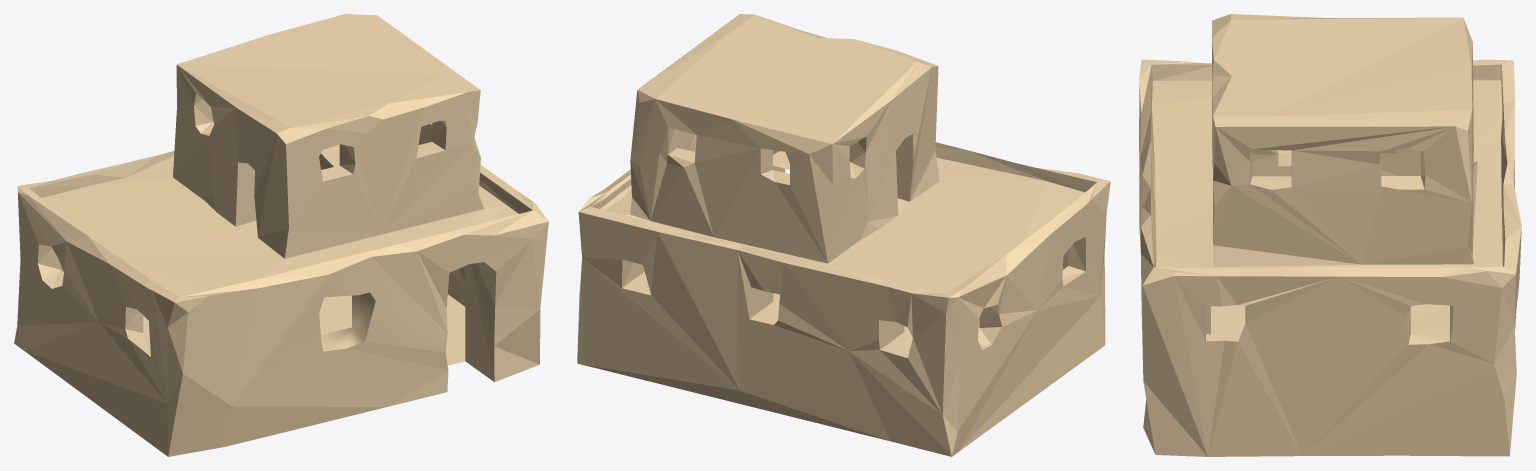
Rendered from House_Block_6_low.fbx.
3 views of the same model, side by side, from view 1: azimuth 30°, elevation 25°; view 2: azimuth 150°, elevation 25°; view 3: azimuth 270°, elevation 25° (orthographic). The views are drawn at different scales.
Visible parts, largest first — view 1: House_Block_6_low; view 2: House_Block_6_low; view 3: House_Block_6_low.
Boxes of the visible parts, x1,y1,x2,y2 form: House_Block_6_low: [14, 14, 548, 456]; House_Block_6_low: [577, 14, 1110, 456]; House_Block_6_low: [1139, 14, 1521, 456].
Bounding box in the file's own units: 8.16 × 5.52 × 6.12.
